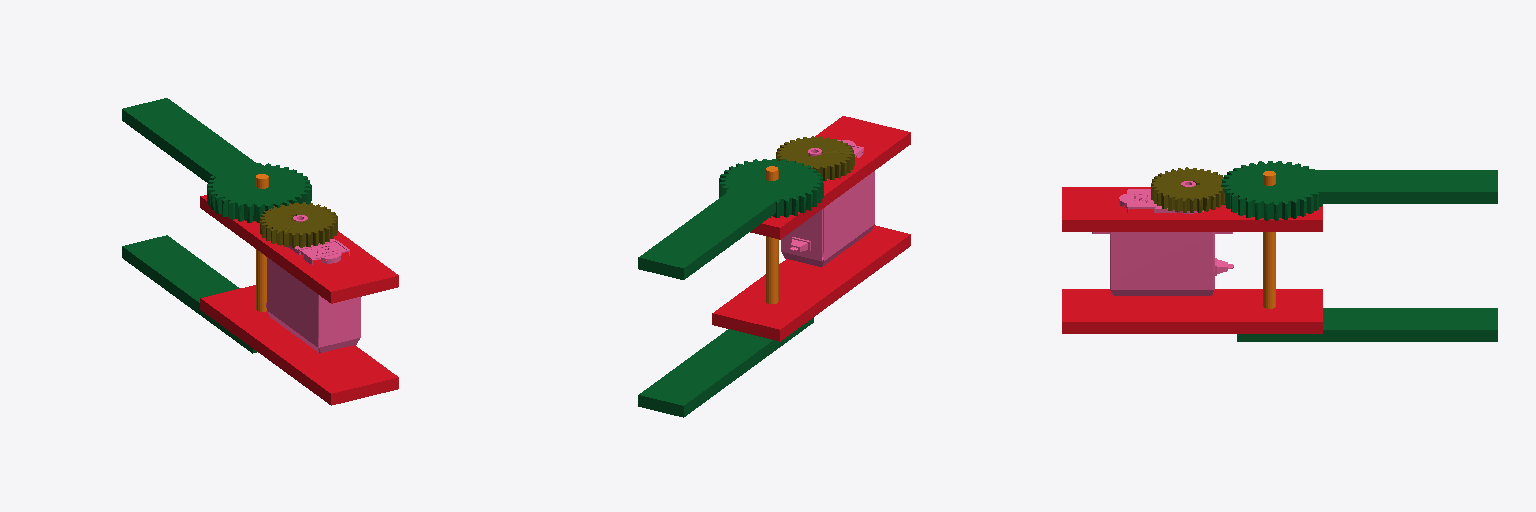
File: tinker.obj
The picture shows the model from 3 angles: view 1: azimuth 30°, elevation 25°; view 2: azimuth 150°, elevation 25°; view 3: azimuth 270°, elevation 25°; orthographic projection.
Parts seen in each view (by area): view 1: obj_0; view 2: obj_0; view 3: obj_0.
Boxes of the visible parts, x1=… form: obj_0: x1=122, y1=98, x2=398, y2=405; obj_0: x1=638, y1=116, x2=910, y2=417; obj_0: x1=1062, y1=161, x2=1497, y2=341.
Size of the model in its own units: 40 by 70 by 167.